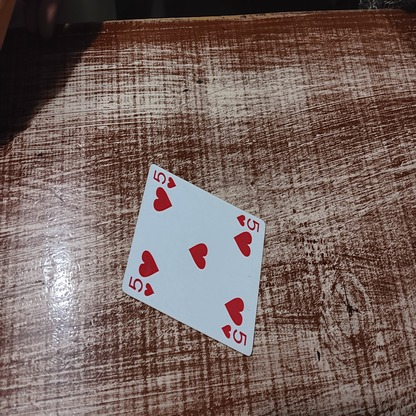5h: (216, 320, 248, 348), (127, 272, 155, 299), (152, 164, 176, 189), (237, 210, 259, 233)
